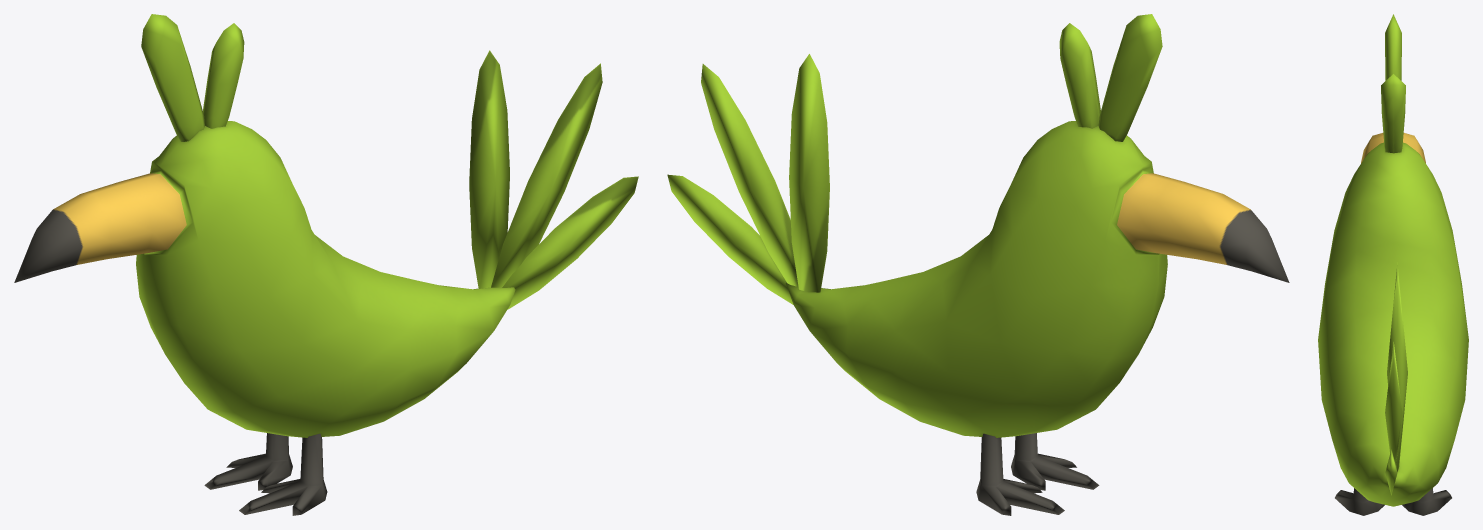
Rendered from birdmodel.fbx.
The picture shows the model from 3 angles, left to right: view 1: azimuth 30°, elevation 25°; view 2: azimuth 150°, elevation 25°; view 3: azimuth 270°, elevation 25°; orthographic projection. The views are drawn at different scales.
Parts seen in each view (by area): view 1: birdmodel; view 2: birdmodel; view 3: birdmodel.
Part boxes in pixels (x1,y1,x2,y2): birdmodel: [14, 14, 638, 515]; birdmodel: [667, 14, 1289, 515]; birdmodel: [1318, 14, 1468, 515].
Size of the model in its own units: 142 by 110 by 34.46.
